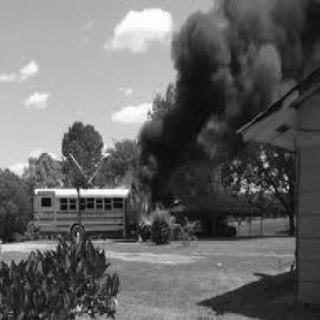Fire: (120, 178, 172, 236)
Smoke: (147, 0, 304, 160)
